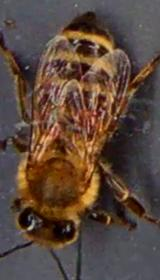varroa_mite: (72, 104, 105, 130)
